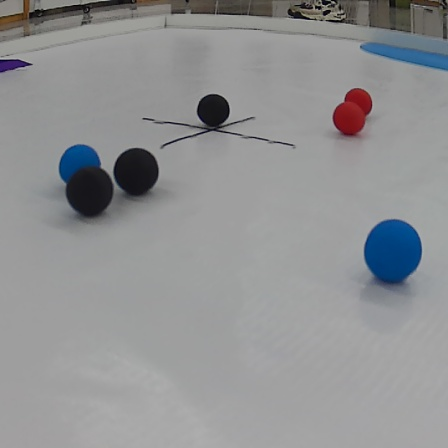black: (114, 146, 164, 194), (66, 170, 114, 218), (198, 91, 236, 126)
blue: (363, 220, 423, 283), (59, 145, 103, 178)
blue_base: (363, 37, 448, 77)
red: (328, 101, 366, 135), (343, 86, 376, 115)
